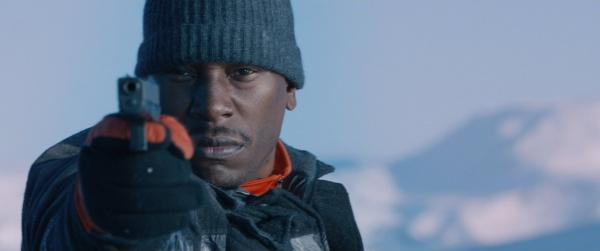Gun: (119, 78, 162, 127)
